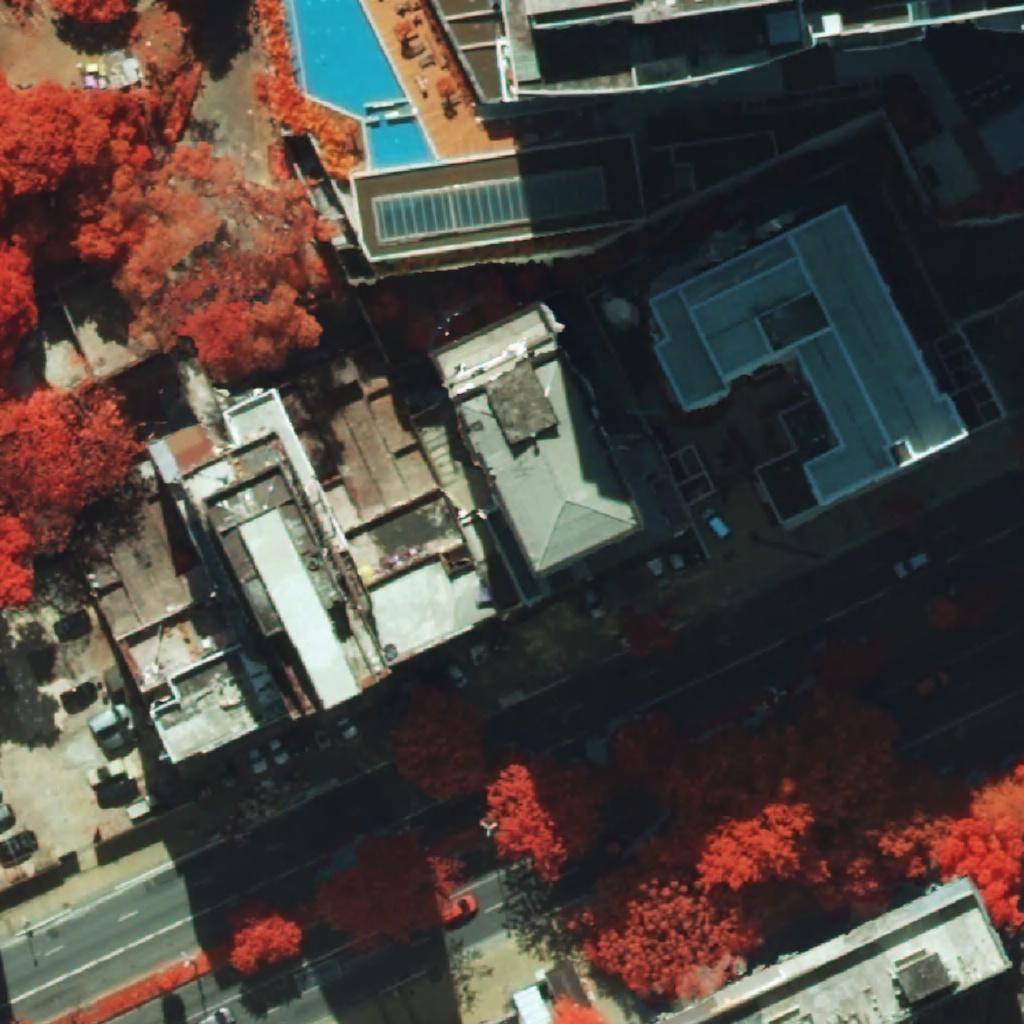pool: (285, 0, 436, 170)
